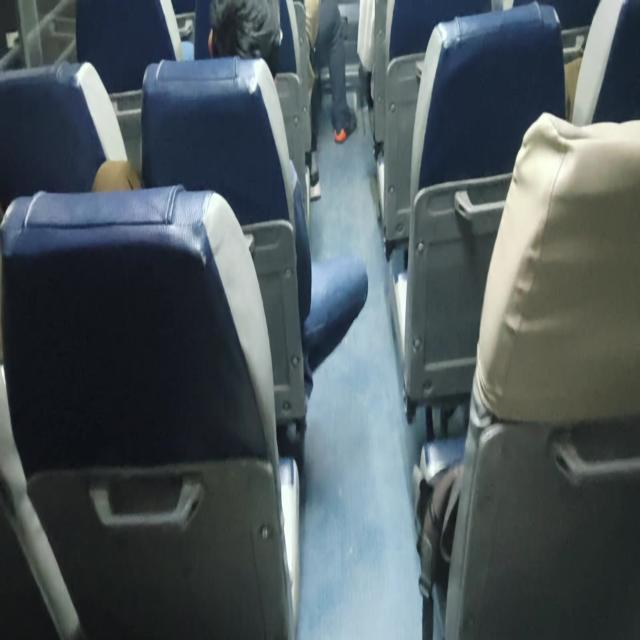person: (91, 53, 368, 400), (207, 0, 319, 202), (304, 0, 357, 144), (207, 0, 283, 74)
